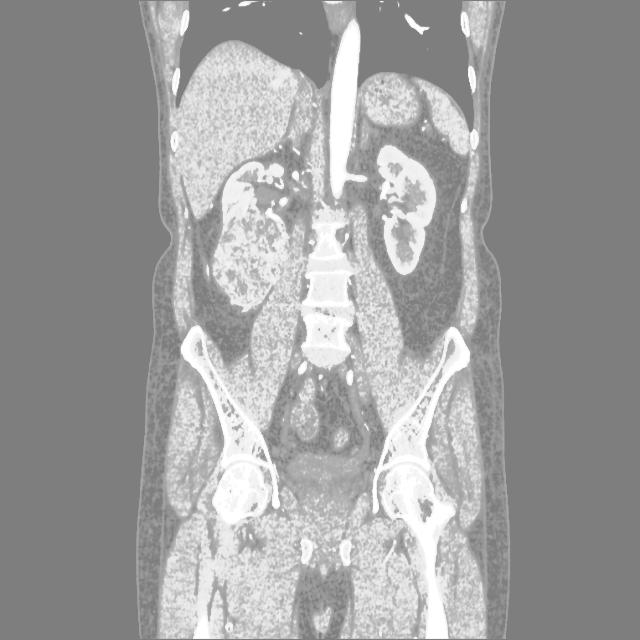TUMOR: (147, 143, 497, 372)
